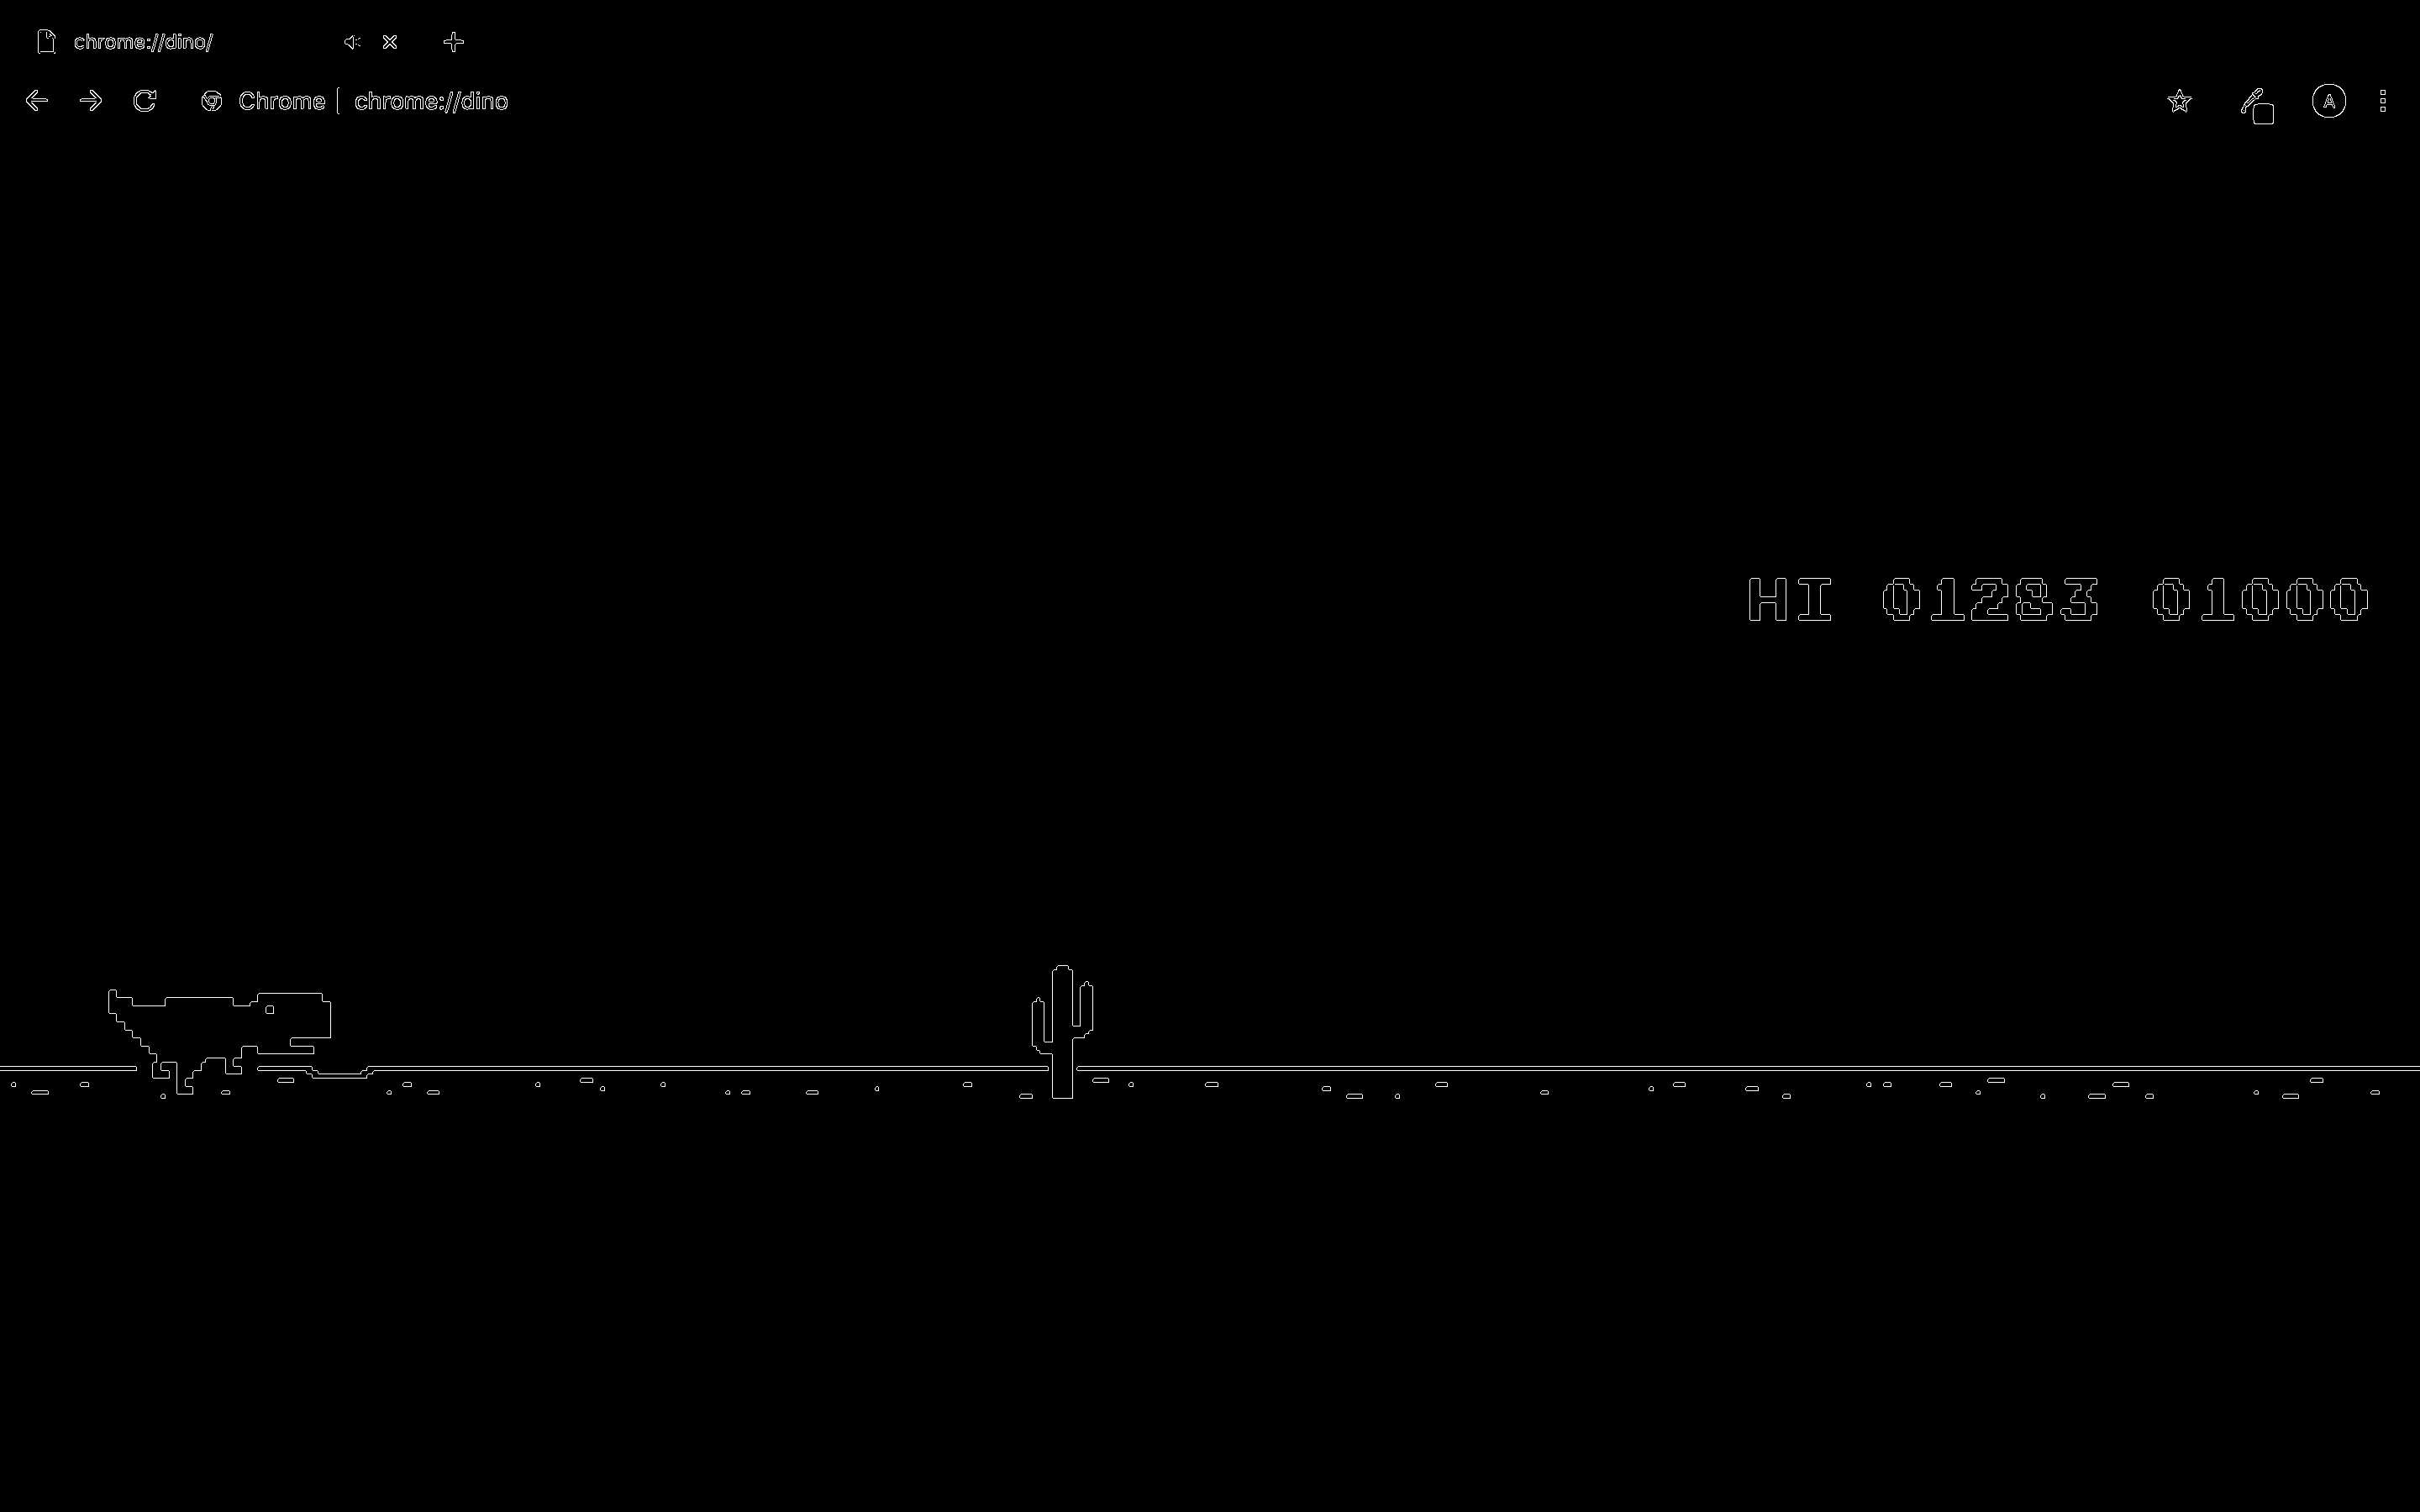Cactus: (1023, 965, 1106, 1097)
Dino: (103, 986, 340, 1092)
